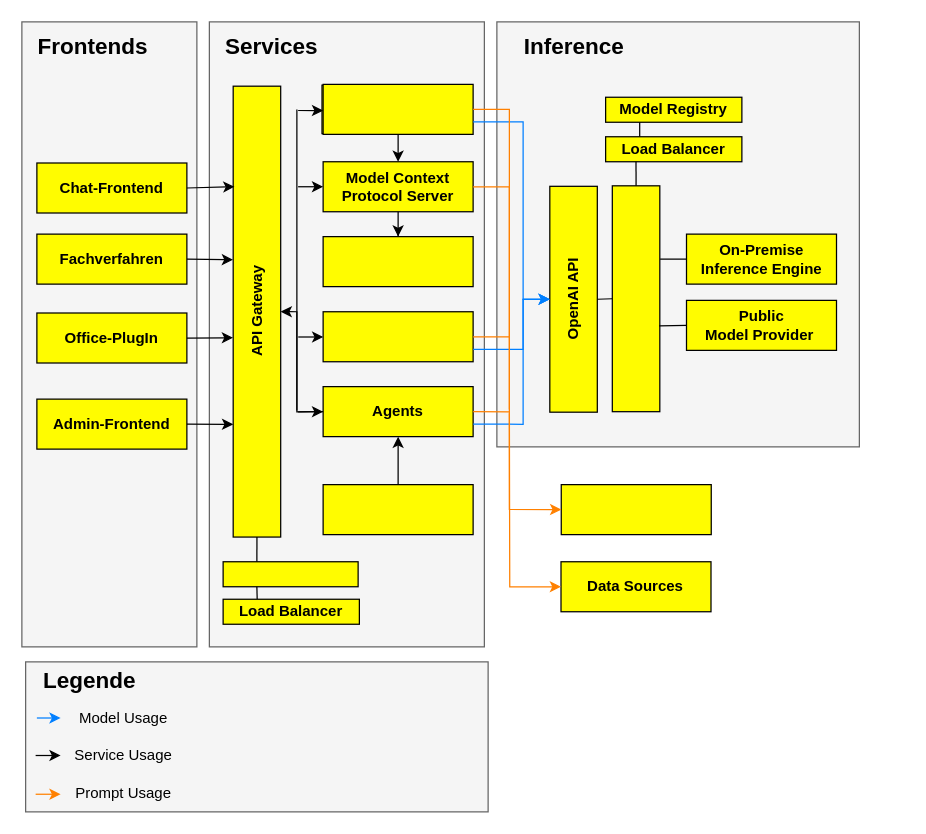
Some shapes in this 926 by 834 pixel diagram are drawn without their labels. Each missing label, with the centre of its shape:
"LLM Gateway" belongs at point (635, 298).
"Orchestration" belongs at point (397, 509).
"Prompt-Store" belongs at point (635, 509).
"RAG" belongs at point (397, 108).
"Service Registry" belongs at point (290, 573).
"Task based Services" belongs at point (397, 336).
"Tools" belongs at point (397, 261).
